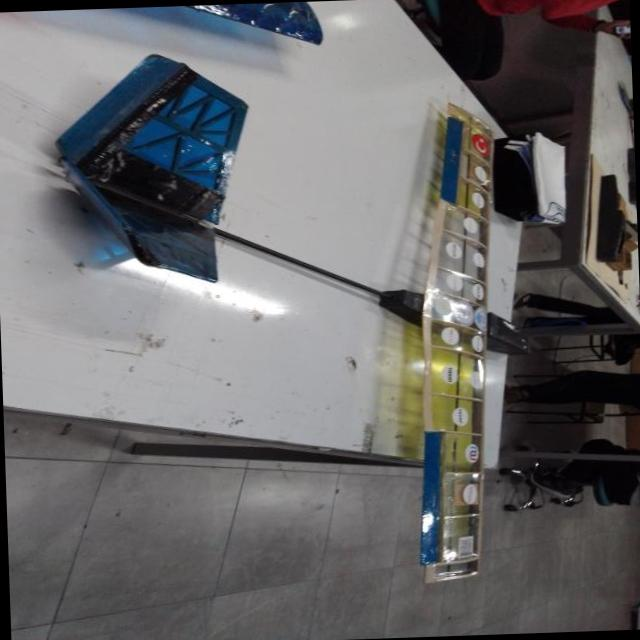UAV: (77, 1, 578, 587)
